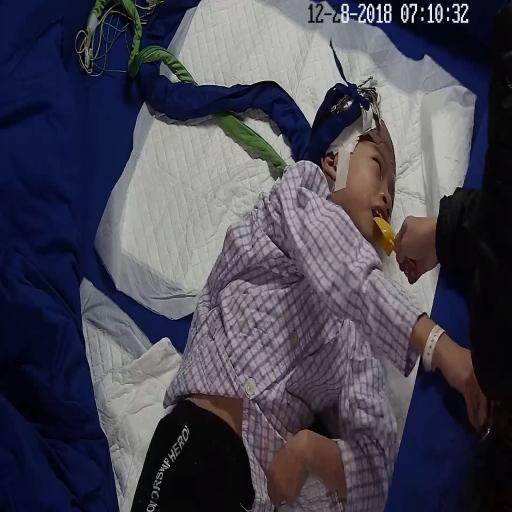Seizure: (322, 117, 396, 247)
